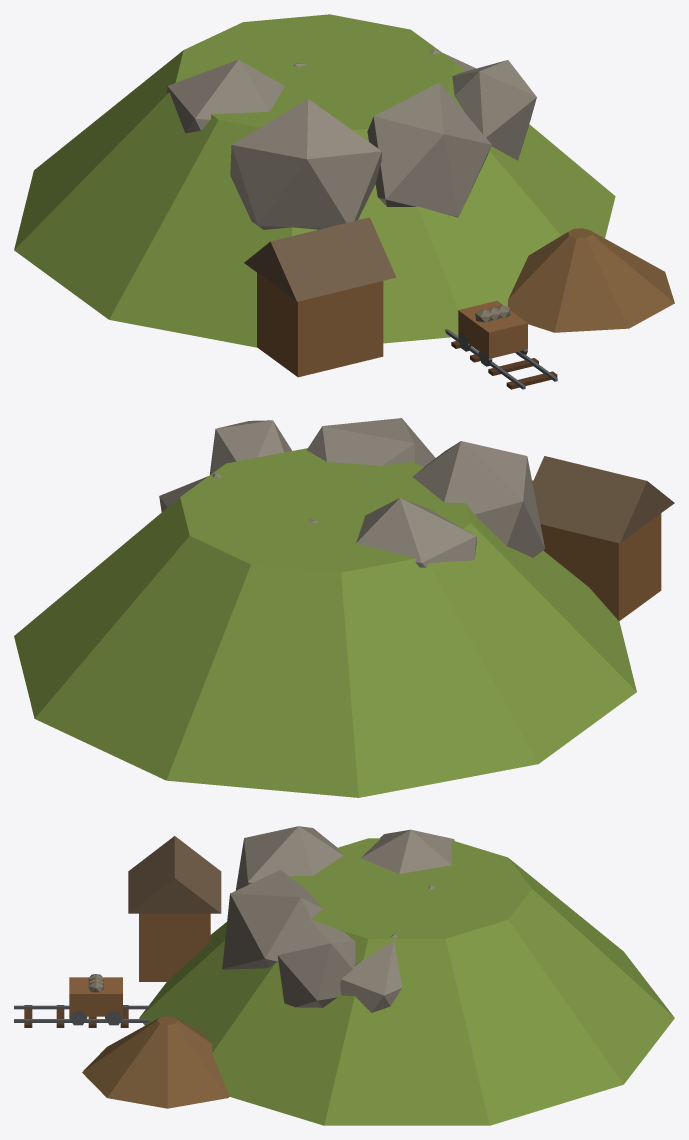
The model's file is building_mine.glb.
3 views of the same model, one above another, from view 1: azimuth 30°, elevation 25°; view 2: azimuth 150°, elevation 25°; view 3: azimuth 270°, elevation 25° (orthographic). The views are drawn at different scales.
Parts seen in each view (by area): view 1: building_mine; view 2: building_mine; view 3: building_mine.
Boxes of the visible parts, x1,y1,x2,y2 form: building_mine: (14,14,674,389); building_mine: (14,418,674,797); building_mine: (14,826,674,1125).
Size of the model in its own units: 14.27 by 5.03 by 18.5.
